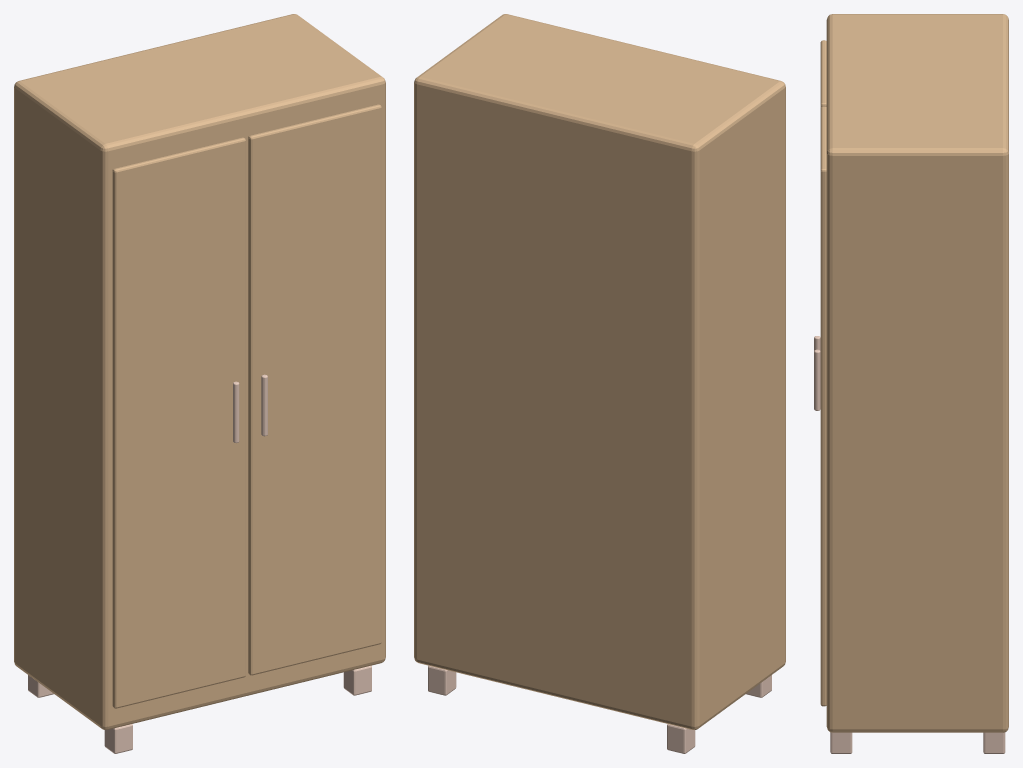
File: presentation___tech_asset_catalog_50.glb
3 views of the same model, side by side, from view 1: azimuth 30°, elevation 25°; view 2: azimuth 150°, elevation 25°; view 3: azimuth 270°, elevation 25° (orthographic).
Visible parts, largest first — view 1: Cube; view 2: Cube; view 3: Cube.
Part boxes in pixels (x1=…): Cube: x1=14, y1=14, x2=385, y2=753; Cube: x1=414, y1=14, x2=785, y2=753; Cube: x1=814, y1=14, x2=1008, y2=753.
Size of the model in its own units: 0.9 by 1.85 by 0.535.
